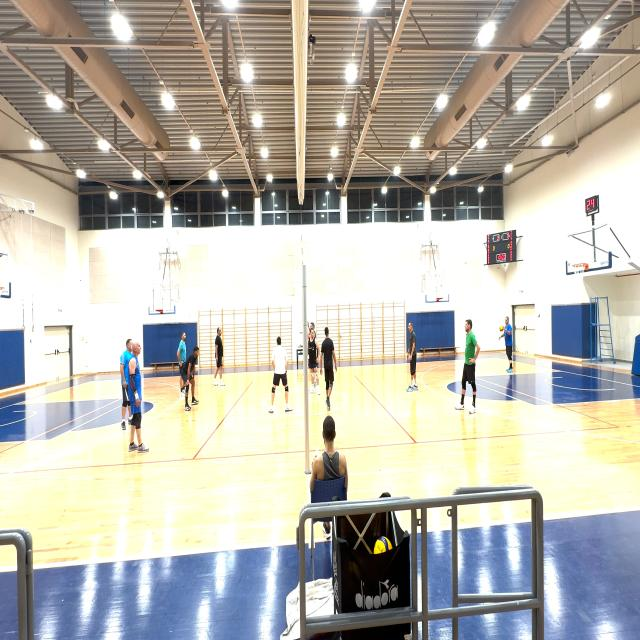volleyball: (373, 536, 392, 555), (499, 325, 504, 331), (469, 358, 474, 364)
